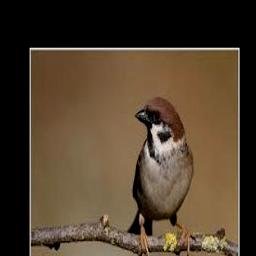Sparrow: (127, 96, 194, 256)
